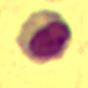lymphocyte: (15, 10, 73, 66)
